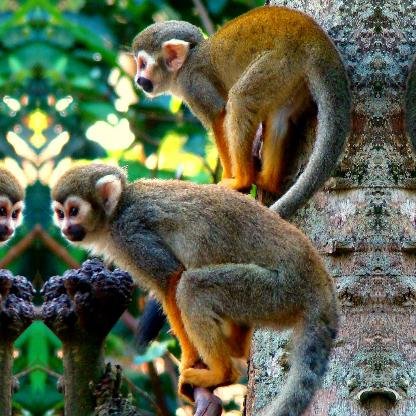Monkey: (46, 161, 342, 415), (122, 15, 352, 206)
